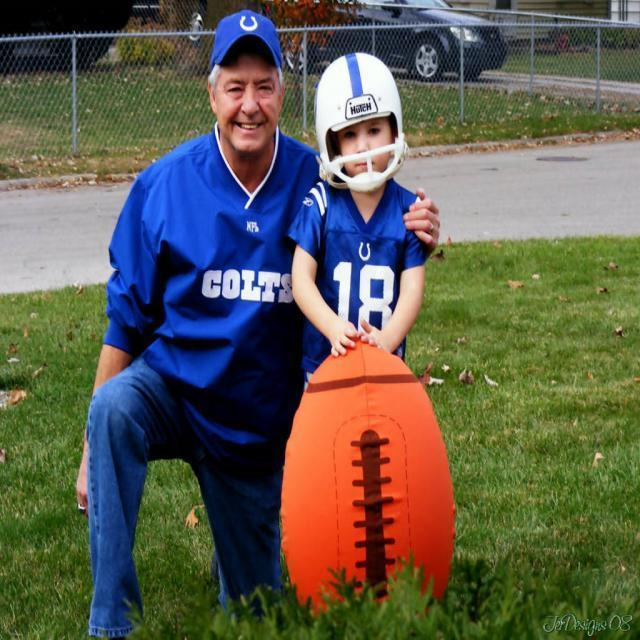ball: (281, 327, 455, 621)
